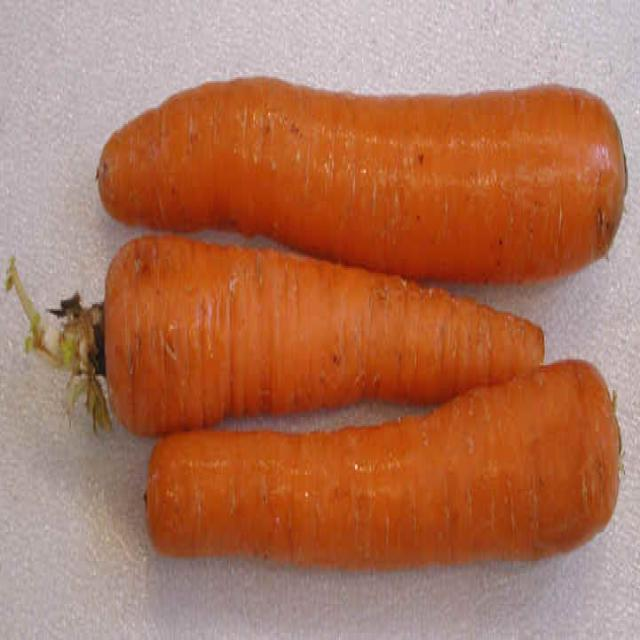Carrot: (92, 74, 627, 288), (136, 362, 625, 564), (103, 230, 544, 431)
